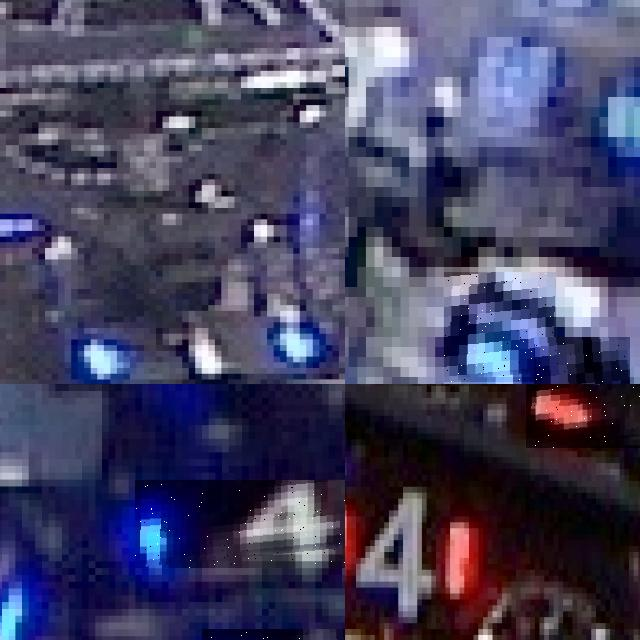B1: (444, 272, 556, 382), (534, 337, 629, 384)
B4: (135, 479, 345, 568)
R4: (345, 483, 485, 620), (525, 384, 640, 448)
